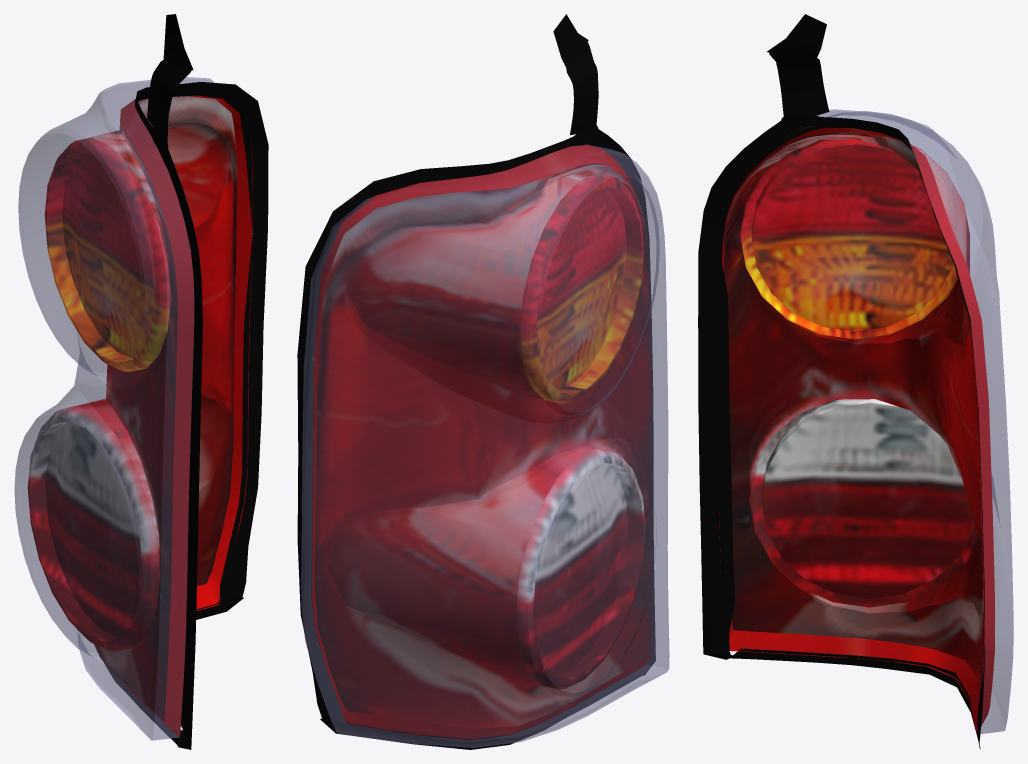
3 renders of one model, left to right at view 1: azimuth 30°, elevation 25°; view 2: azimuth 150°, elevation 25°; view 3: azimuth 270°, elevation 25°, orthographic. The views are drawn at different scales.
Parts seen in each view (by area): view 1: J725_541C_L_4_N_J725_541C_L, J725_541C_L_J725_541C_L_3_DTaSI, J725_541C_L_J725_541C_L_5_D; view 2: J725_541C_L_J725_541C_L_3_DTaSI, J725_541C_L_4_N_J725_541C_L, J725_541C_L_J725_541C_L_5_D; view 3: J725_541C_L_4_N_J725_541C_L, J725_541C_L_J725_541C_L_5_D, J725_541C_L_J725_541C_L_3_DTaSI.
Part boxes in pixels (box(x1,y1,x2,y2)): J725_541C_L_4_N_J725_541C_L: box(27, 95, 252, 737); J725_541C_L_J725_541C_L_3_DTaSI: box(14, 77, 214, 740); J725_541C_L_J725_541C_L_5_D: box(104, 14, 268, 749); J725_541C_L_J725_541C_L_3_DTaSI: box(301, 144, 669, 747); J725_541C_L_4_N_J725_541C_L: box(311, 145, 651, 739); J725_541C_L_J725_541C_L_5_D: box(297, 14, 655, 749); J725_541C_L_4_N_J725_541C_L: box(718, 126, 994, 734); J725_541C_L_J725_541C_L_5_D: box(698, 14, 985, 749); J725_541C_L_J725_541C_L_3_DTaSI: box(817, 109, 1013, 733).
Bounding box in the file's own units: 17.41 × 46.93 × 20.06.
